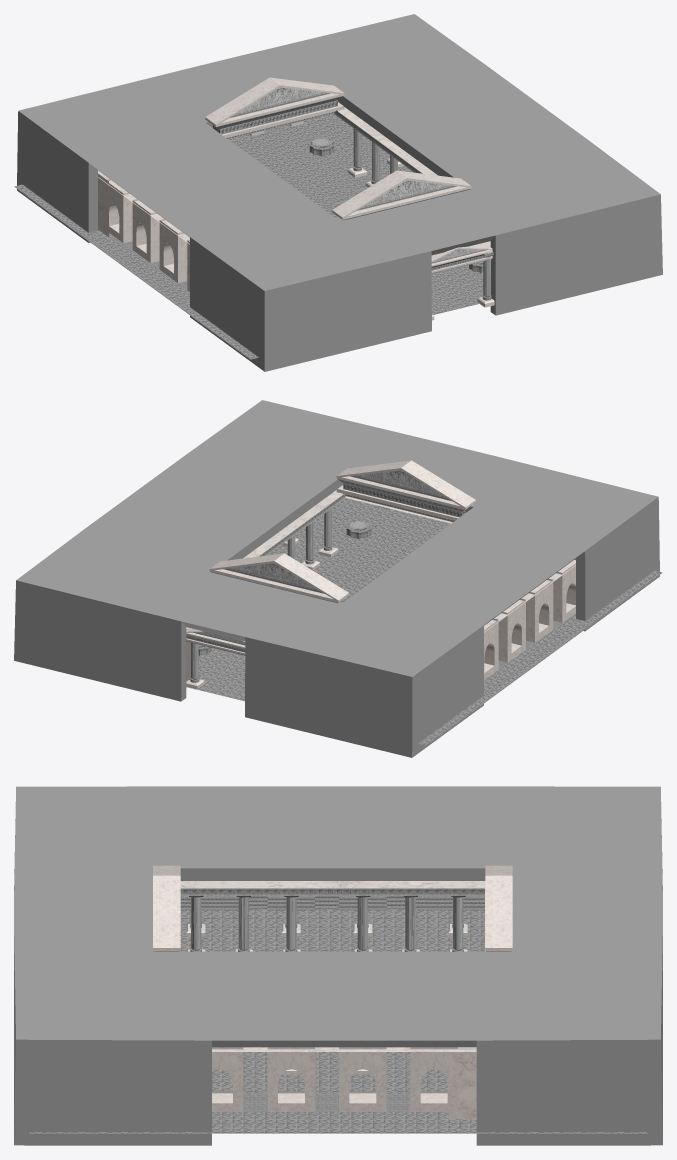
Rendered from GreekTempleV7.fbx.
The picture shows the model from 3 angles, top to bottom: view 1: azimuth 30°, elevation 25°; view 2: azimuth 150°, elevation 25°; view 3: azimuth 270°, elevation 25°; orthographic projection. The views are drawn at different scales.
Parts seen in each view (by area): view 1: lightmapBox, GreekTempleV8; view 2: lightmapBox, GreekTempleV8; view 3: lightmapBox, GreekTempleV8.
Boxes of the visible parts, left/top/right/bottom form: lightmapBox: left=17, top=14, right=662, bottom=371; GreekTempleV8: left=14, top=77, right=494, bottom=359; lightmapBox: left=14, top=400, right=659, bottom=757; GreekTempleV8: left=186, top=460, right=662, bottom=745; lightmapBox: left=14, top=786, right=662, bottom=1145; GreekTempleV8: left=29, top=865, right=647, bottom=1133.
Bounding box in the file's own units: 5189 × 1302 × 5448.
